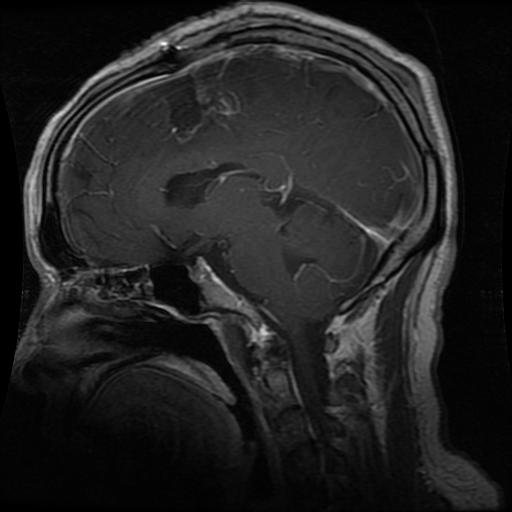Gliomia_tumour: (147, 68, 214, 140)
